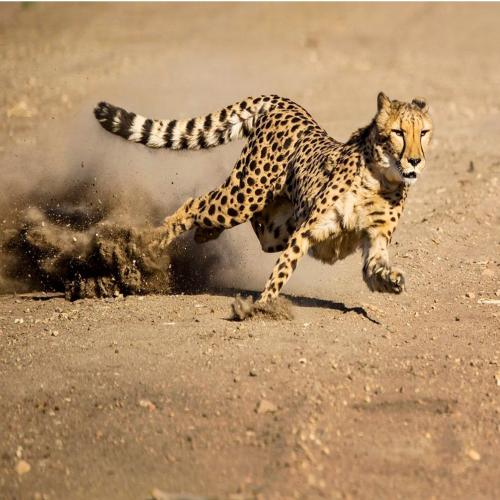cheetah-endangered: (87, 66, 438, 318)
